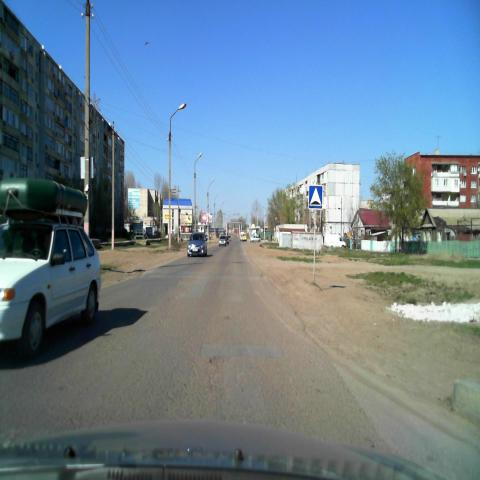5_20: (308, 185, 322, 210)
